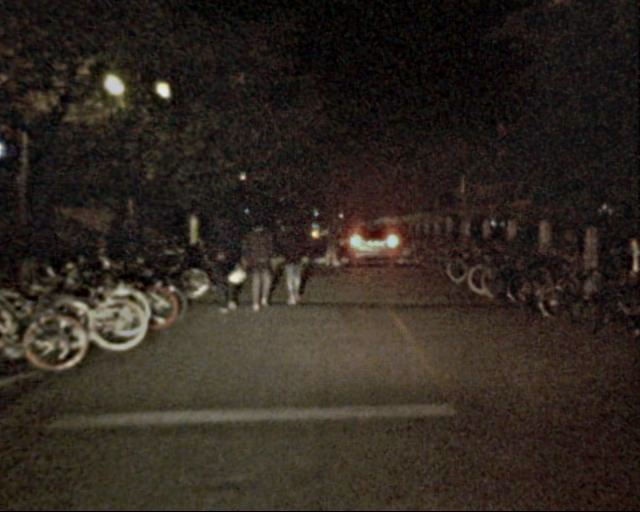person: (208, 214, 242, 315), (247, 222, 276, 314), (282, 214, 308, 304), (322, 220, 341, 267)
